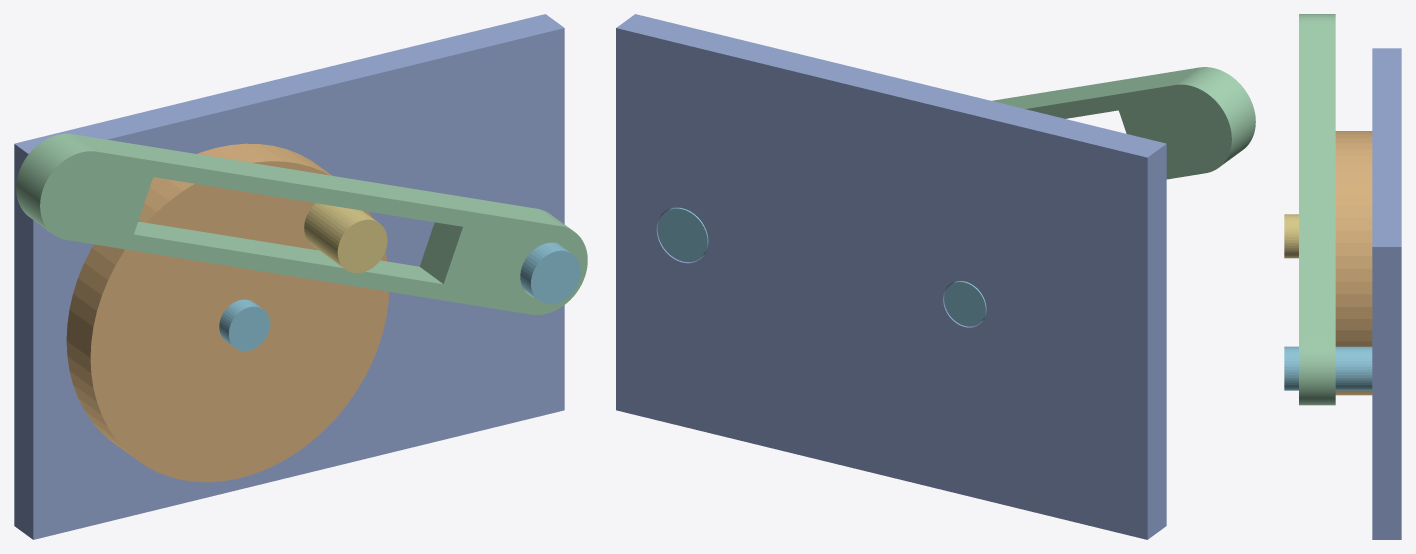
File: quick_return_demo.glb
3 views of the same model, side by side, from view 1: azimuth 30°, elevation 25°; view 2: azimuth 150°, elevation 25°; view 3: azimuth 270°, elevation 25° (orthographic). The views are drawn at different scales.
Visible parts, largest first — view 1: base, crank_disc, slotted_lever, crank_pin, pin_lever, pin_crank; view 2: base, slotted_lever, pin_lever, pin_crank; view 3: base, slotted_lever, crank_disc, pin_lever, crank_pin.
Part boxes in pixels (x1,y1,x2,y2): base: (14,14,564,539); crank_disc: (66,143,388,482); slotted_lever: (16,133,587,314); crank_pin: (304,203,387,273); pin_lever: (520,242,580,304); pin_crank: (219,299,270,350); base: (616,14,1166,539); slotted_lever: (992,67,1255,179); pin_lever: (657,207,708,261); pin_crank: (944,281,986,326); base: (1372,48,1401,539); slotted_lever: (1299,14,1335,405); crank_disc: (1335,131,1372,395); pin_lever: (1284,346,1372,390); crank_pin: (1284,214,1298,258).
Bounding box in the file's own units: 68.96 × 48.64 × 16.
